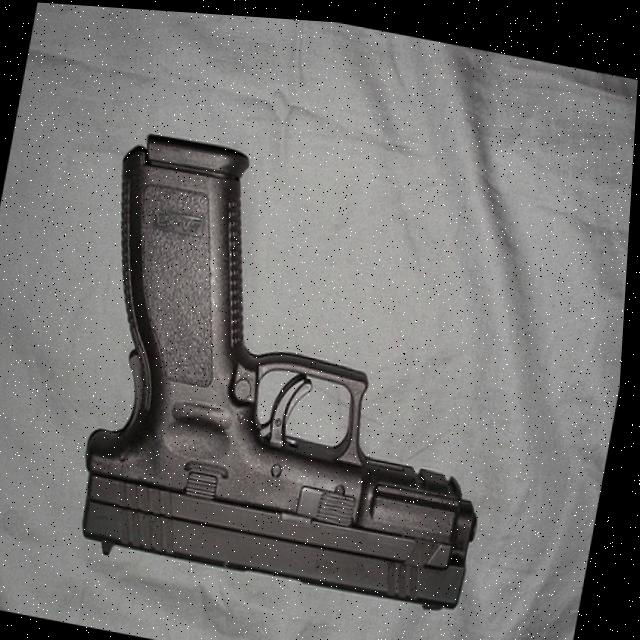pistol: (56, 126, 539, 614)
